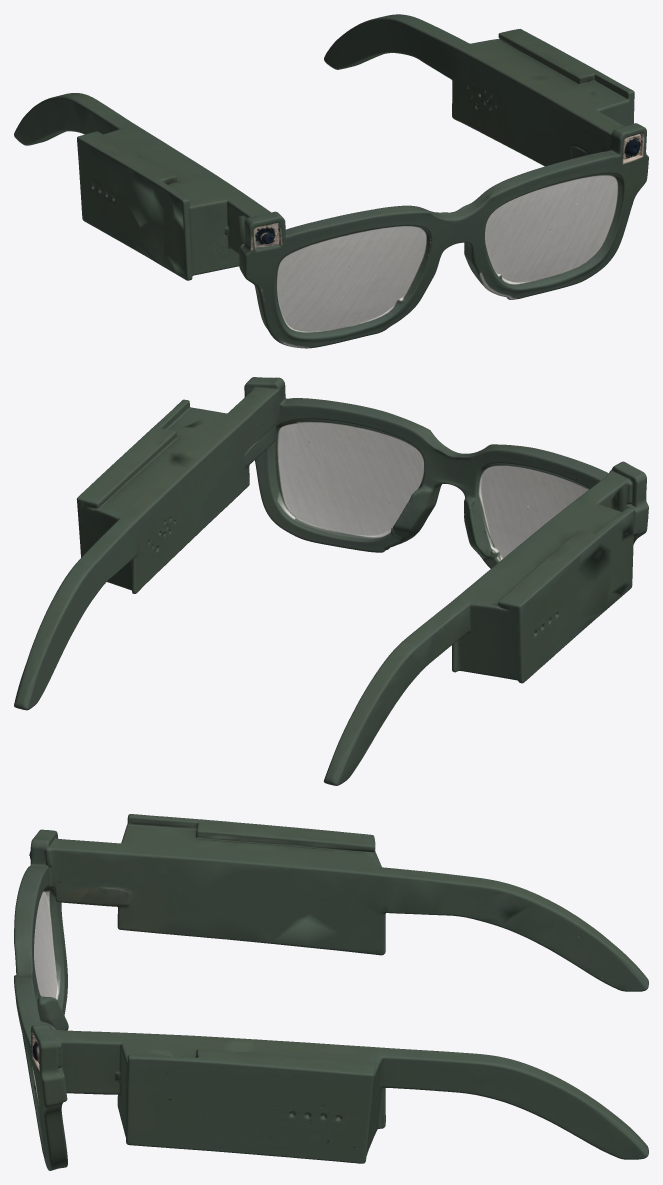
Rendered from glass_mode_3d_opt.glb.
The picture shows the model from 3 angles, top to bottom: view 1: azimuth 30°, elevation 25°; view 2: azimuth 150°, elevation 25°; view 3: azimuth 270°, elevation 25°; orthographic projection. The views are drawn at different scales.
Parts seen in each view (by area): view 1: node_0; view 2: node_0; view 3: node_0.
Boxes of the visible parts, box(x1,y1,x2,y2) form: node_0: box(14, 14, 648, 348); node_0: box(14, 377, 648, 785); node_0: box(14, 814, 648, 1170).
Bounding box in the file's own units: 0.8801 × 0.2715 × 0.9657.
1 material, 1 textured.
